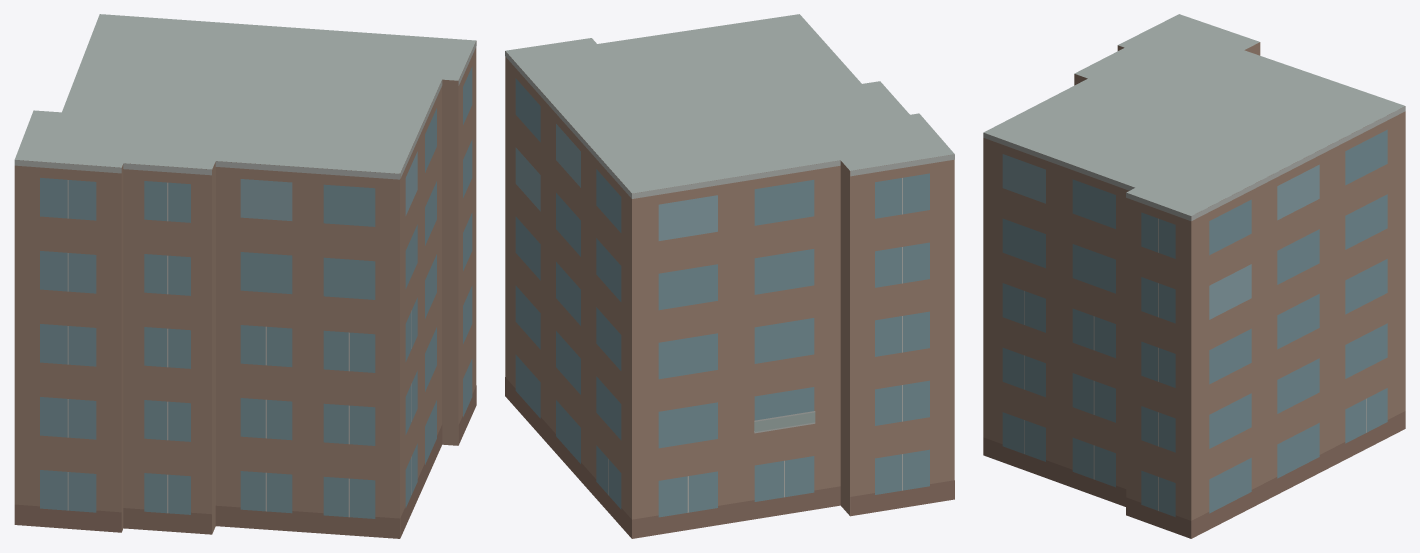
File: survey-upis-32756695.glb
The picture shows the model from 3 angles, left to right: view 1: azimuth 30°, elevation 25°; view 2: azimuth 150°, elevation 25°; view 3: azimuth 270°, elevation 25°; orthographic projection. The views are drawn at different scales.
Visible parts, largest first — view 1: survey-upis-32756695.tmp; view 2: survey-upis-32756695.tmp; view 3: survey-upis-32756695.tmp.
Part boxes in pixels (<box>): survey-upis-32756695.tmp: <box>14,14,476,538</box>; survey-upis-32756695.tmp: <box>505,14,954,538</box>; survey-upis-32756695.tmp: <box>983,14,1405,538</box>.
Size of the model in its own units: 20.49 by 15.25 by 18.09.
